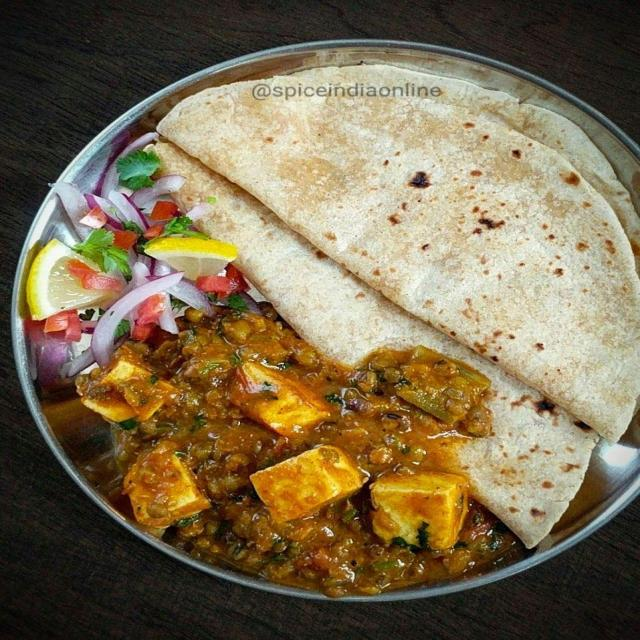roti: (226, 51, 640, 262)
